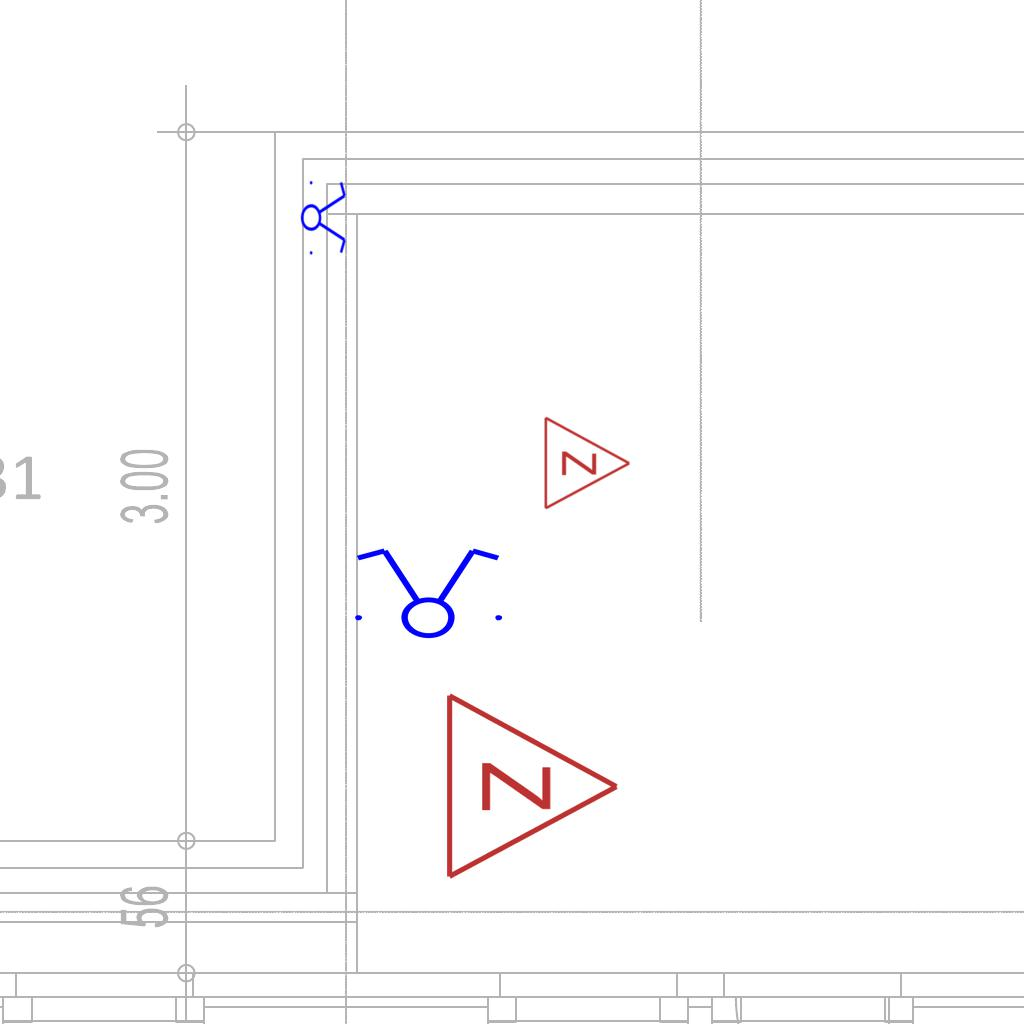Serienschalter: (343, 544, 511, 640), (300, 175, 348, 259)
Zimmersignalleuchte: (432, 686, 632, 882), (537, 413, 637, 511)
